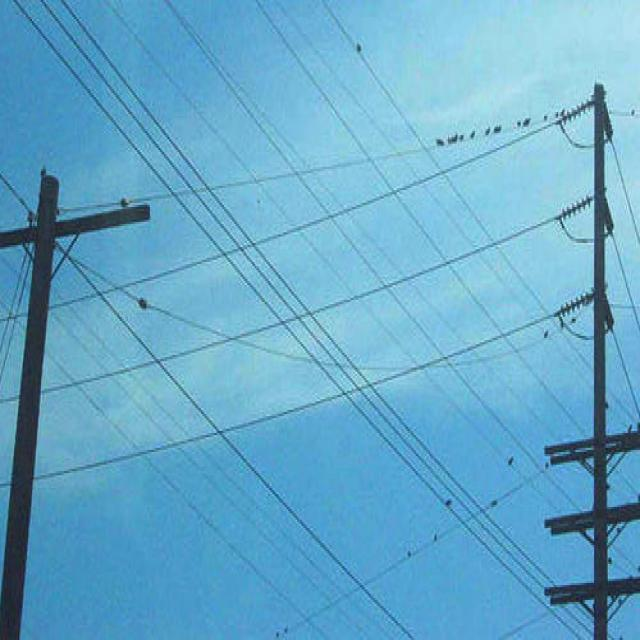pole: (0, 167, 151, 640), (544, 84, 640, 640)
wire: (12, 0, 552, 608), (54, 84, 603, 308), (41, 199, 593, 393), (32, 294, 589, 479), (68, 110, 559, 209), (283, 469, 547, 632), (233, 448, 356, 581), (604, 135, 640, 340), (603, 101, 640, 247), (157, 361, 221, 435), (556, 313, 594, 342), (561, 120, 591, 148), (562, 222, 593, 243), (396, 619, 415, 640)
